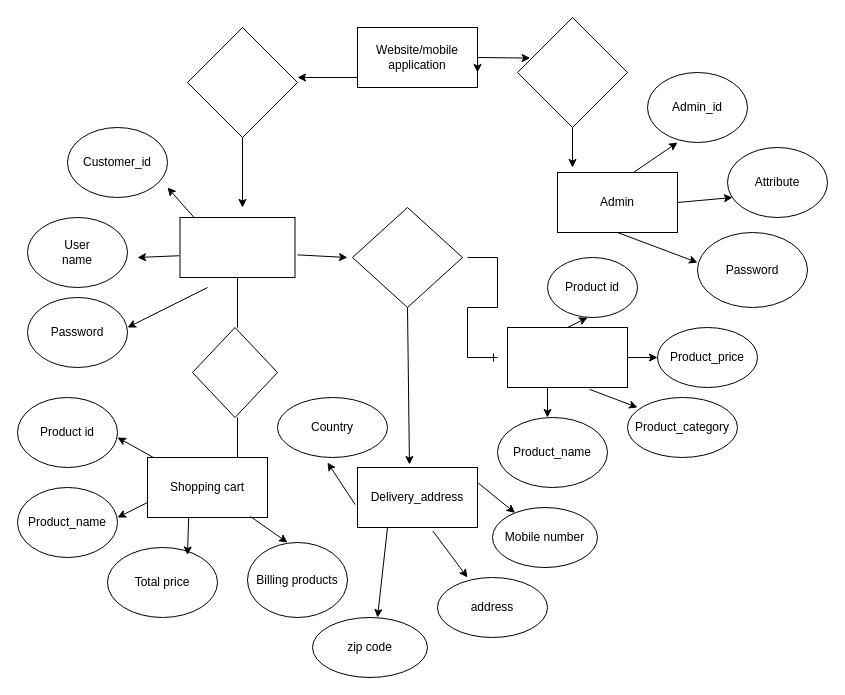
Image size: 845x695. Some labels were removed from this diagram. The shapes that lost their labels are listed below. From the top down, each one's centre as x and y in pixels, then its label:
At [242,82]: "Purchase".
At [572,72]: "Manages".
At [237,247]: "Customer".
At [407,257]: "Delivers".
At [235,372]: "Reserve products in".
At [567,357]: "Products".
